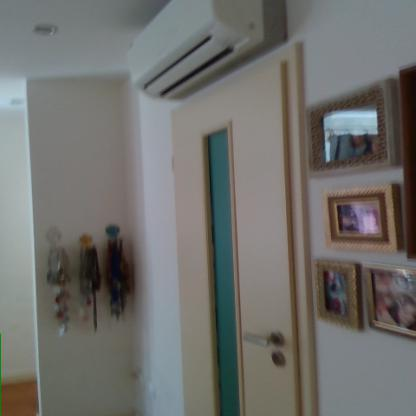door: (174, 109, 303, 415)
hinged: (172, 153, 178, 174)
lever: (235, 328, 275, 349)
